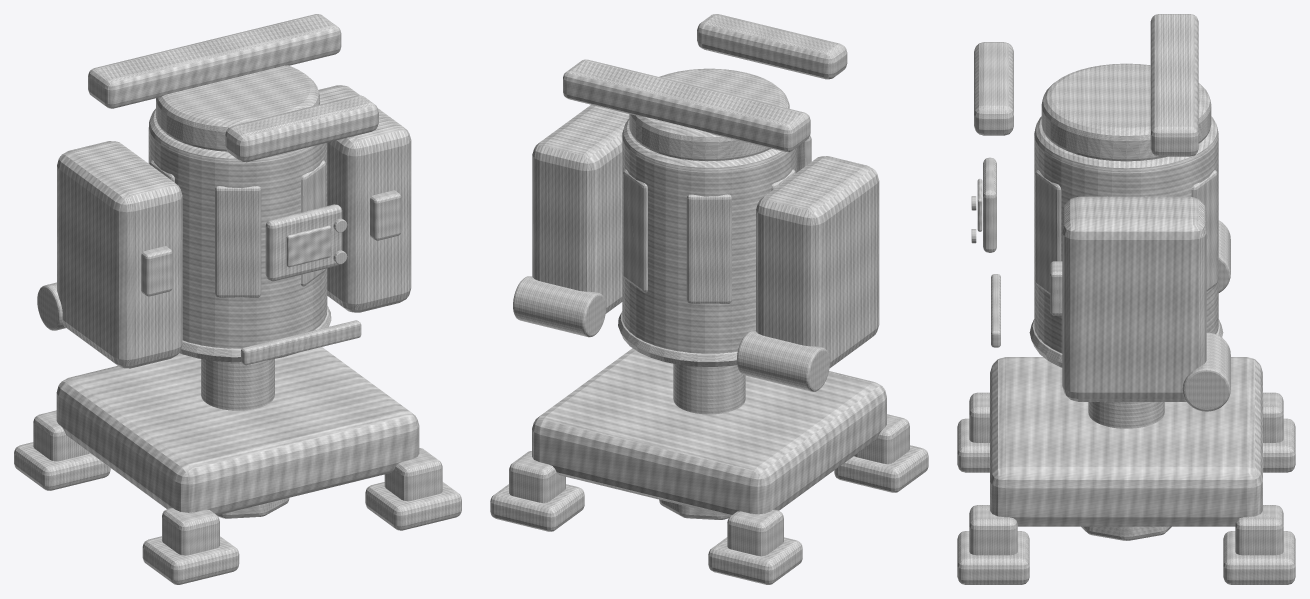
The model's file is portable_miner_variant_d.glb.
3 views of the same model, side by side, from view 1: azimuth 30°, elevation 25°; view 2: azimuth 150°, elevation 25°; view 3: azimuth 270°, elevation 25° (orthographic). The views are drawn at different scales.
Parts seen in each view (by area): view 1: Lower chassis.003, Removable side module, Motor housing.003, Removable side module.001, Top equipment rail, Motor upper cap.003, Carry handle, Cooling fin.023, Drive spindle.003, Service panel bezel.003, Rubberized foot.012, Rubberized foot.014 (+12 smaller); view 2: Lower chassis.003, Removable side module, Motor housing.003, Removable side module.001, Top equipment rail, Motor upper cap.003, Carry handle, Cooling fin.021, Module hinge, Module hinge.001, Drive spindle.003, Rubberized foot.013 (+8 smaller); view 3: Lower chassis.003, Removable side module.001, Motor upper cap.003, Motor housing.003, Top equipment rail, Carry handle, Rubberized foot.014, Rubberized foot.015, Cooling fin, Module hinge.001, Foot bracket.014, Foot bracket.015 (+12 smaller).
Part boxes in pixels (x1,y1,x2,y2): Lower chassis.003: [56, 347, 419, 515]; Removable side module: [57, 141, 182, 368]; Motor housing.003: [148, 108, 327, 348]; Removable side module.001: [318, 85, 411, 312]; Top equipment rail: [88, 14, 341, 108]; Motor upper cap.003: [156, 65, 319, 151]; Carry handle: [225, 95, 378, 162]; Cooling fin.023: [215, 186, 261, 297]; Drive spindle.003: [201, 359, 274, 410]; Service panel bezel.003: [265, 204, 342, 281]; Rubberized foot.012: [142, 536, 239, 584]; Rubberized foot.014: [365, 482, 461, 530]; Lower chassis.003: [532, 348, 886, 516]; Removable side module: [756, 156, 879, 367]; Motor housing.003: [622, 118, 796, 353]; Removable side module.001: [532, 104, 629, 313]; Top equipment rail: [563, 59, 810, 151]; Motor upper cap.003: [629, 68, 789, 161]; Carry handle: [697, 14, 847, 79]; Cooling fin.021: [686, 194, 731, 303]; Module hinge: [736, 331, 829, 391]; Module hinge.001: [513, 276, 605, 337]; Drive spindle.003: [673, 363, 745, 414]; Rubberized foot.013: [708, 537, 802, 584]; Lower chassis.003: [990, 357, 1262, 526]; Removable side module.001: [1062, 196, 1206, 401]; Motor upper cap.003: [1041, 63, 1211, 161]; Motor housing.003: [1034, 116, 1218, 353]; Top equipment rail: [1150, 14, 1198, 156]; Carry handle: [974, 42, 1013, 135]; Rubberized foot.014: [957, 531, 1029, 584]; Rubberized foot.015: [1223, 531, 1295, 584]; Cooling fin: [1035, 170, 1061, 294]; Module hinge.001: [1182, 332, 1230, 411]; Foot bracket.014: [969, 505, 1017, 555]; Foot bracket.015: [1235, 505, 1283, 555].
Size of what is drawn, in the model's own units: 0.9 by 1.23 by 0.8424.
Materials: 8 (8 with a texture image).
